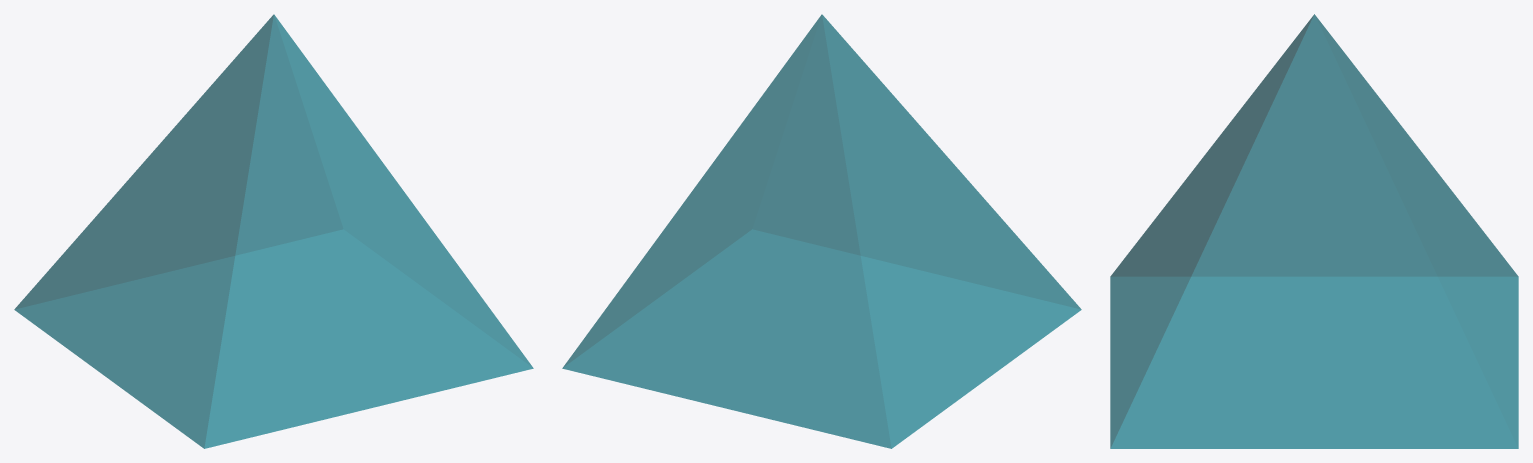
The model's file is pyramid_transperent_artistic_reference.glb.
The picture shows the model from 3 angles, left to right: view 1: azimuth 30°, elevation 25°; view 2: azimuth 150°, elevation 25°; view 3: azimuth 270°, elevation 25°; orthographic projection. The views are drawn at different scales.
Parts seen in each view (by area): view 1: pyramid_2; view 2: pyramid_2; view 3: pyramid_2.
Part boxes in pixels (x1,y1,x2,y2): pyramid_2: (14, 14, 533, 448); pyramid_2: (562, 14, 1081, 448); pyramid_2: (1110, 14, 1518, 448).
Bounding box in the file's own units: 2.12 × 2 × 2.12.
